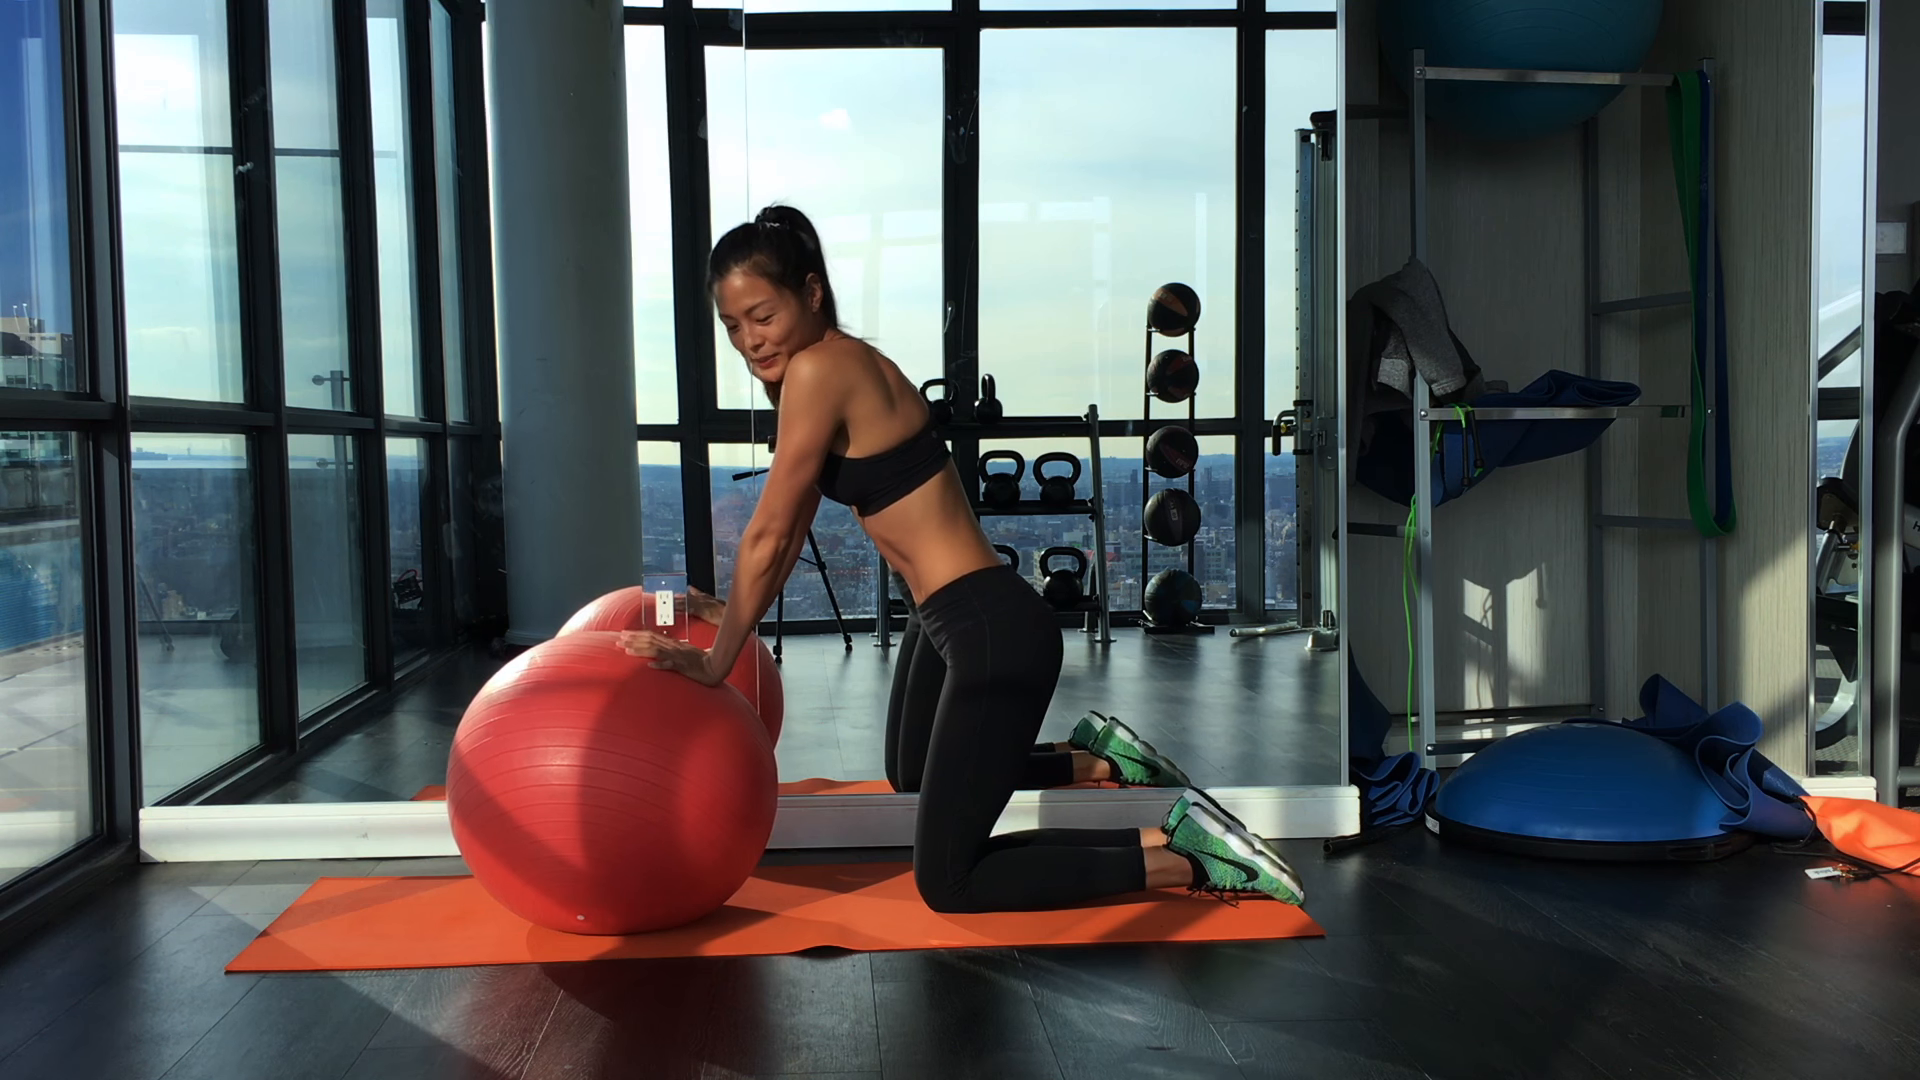yogaball: (440, 624, 803, 942)
